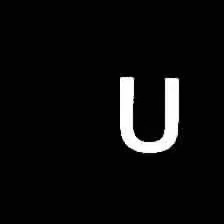LTR_U: (110, 64, 180, 158)
